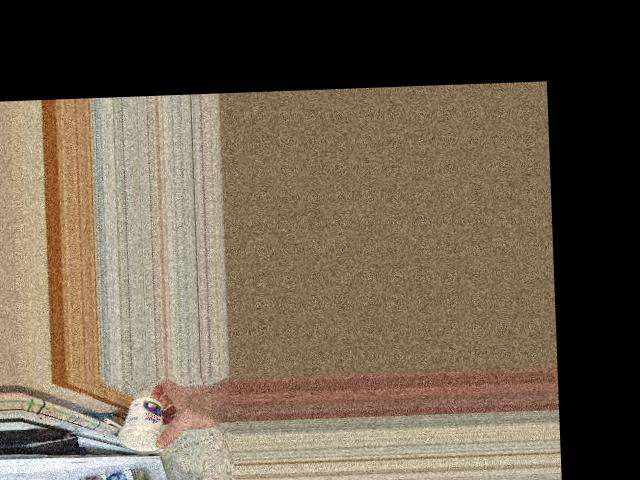cotage: (115, 393, 173, 455)
